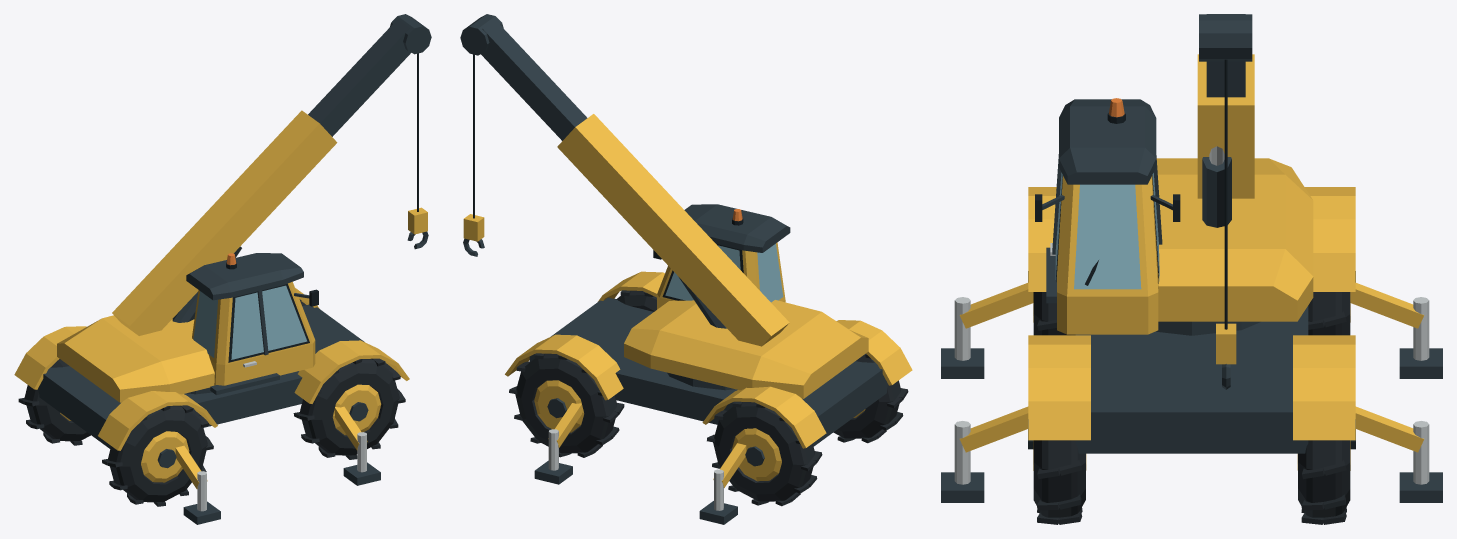
File: b07_rough_terrain_mobile_crane.glb
3 renders of one model, left to right at view 1: azimuth 30°, elevation 25°; view 2: azimuth 150°, elevation 25°; view 3: azimuth 270°, elevation 25°, orthographic. The views are drawn at different scales.
Parts seen in each view (by area): view 1: b07_rough_terrain_mobile_crane; view 2: b07_rough_terrain_mobile_crane; view 3: b07_rough_terrain_mobile_crane.
Boxes of the visible parts, x1,y1,x2,y2 form: b07_rough_terrain_mobile_crane: (14,14,431,524); b07_rough_terrain_mobile_crane: (460,14,912,524); b07_rough_terrain_mobile_crane: (941,14,1442,524).
Size of the model in its own units: 6 by 5.65 by 4.4.
